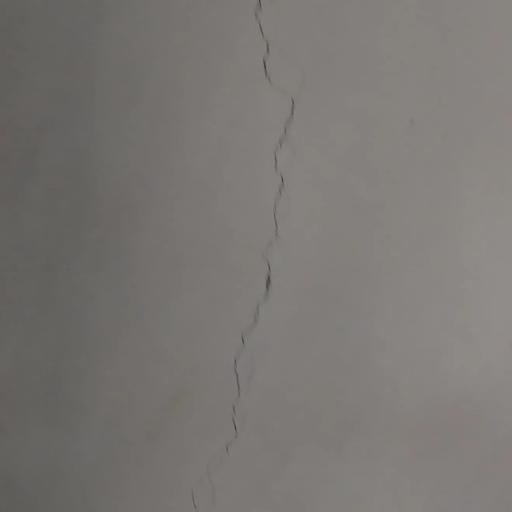minor_crack: (185, 0, 295, 511)
